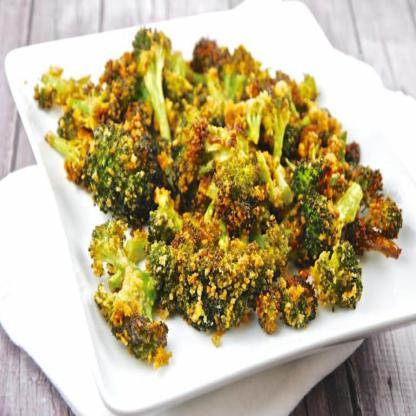broccoli: (32, 26, 404, 369)
